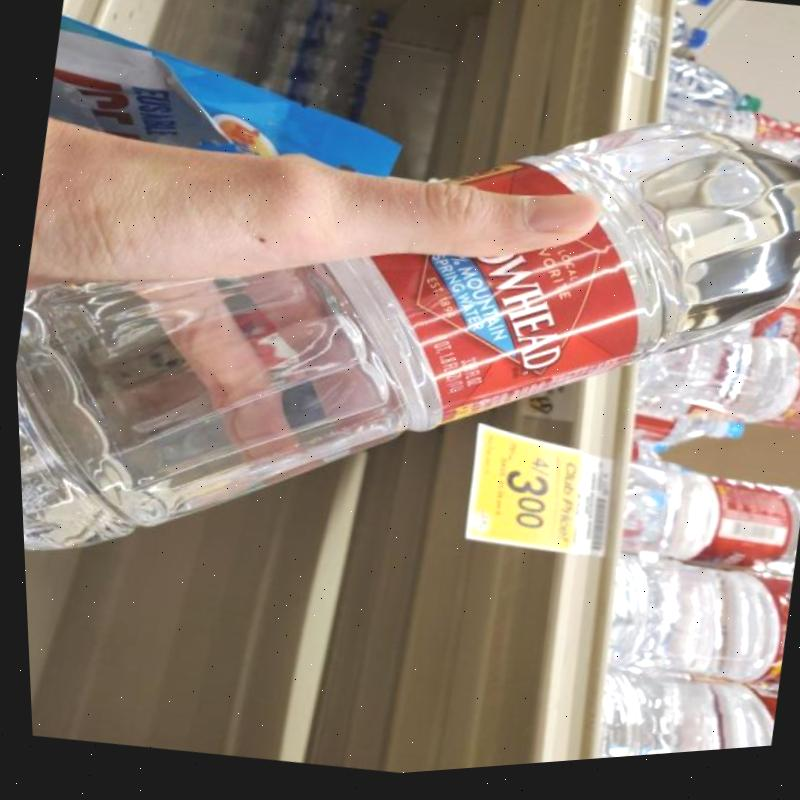botella: (2, 15, 800, 685), (582, 555, 791, 706), (594, 461, 800, 596), (630, 323, 800, 457), (568, 667, 774, 768), (656, 103, 800, 186), (659, 57, 767, 130), (266, 16, 384, 70), (627, 414, 742, 468), (259, 46, 374, 97), (253, 75, 367, 122), (279, 0, 395, 45), (721, 300, 800, 363), (624, 447, 693, 490), (667, 19, 710, 66), (787, 241, 800, 316), (676, 1, 713, 21), (642, 447, 667, 465)
